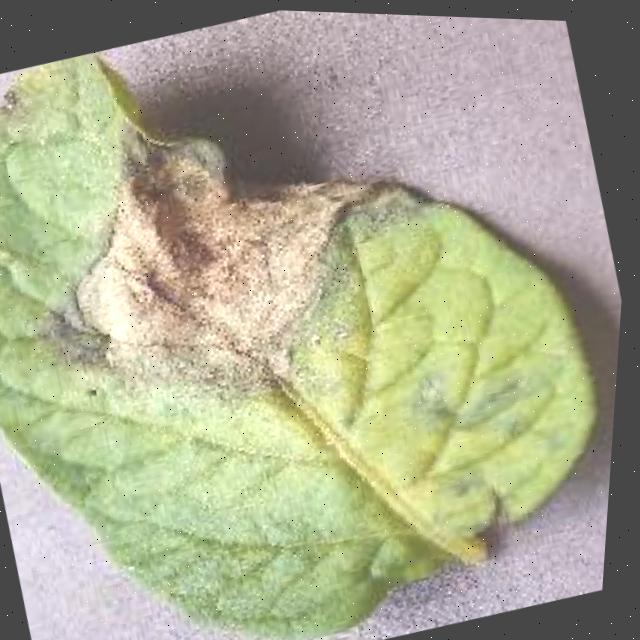Late_blight: (0, 47, 478, 450)
